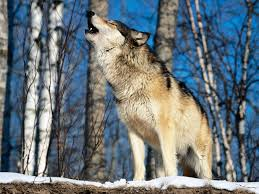wolf: (80, 8, 218, 185)
